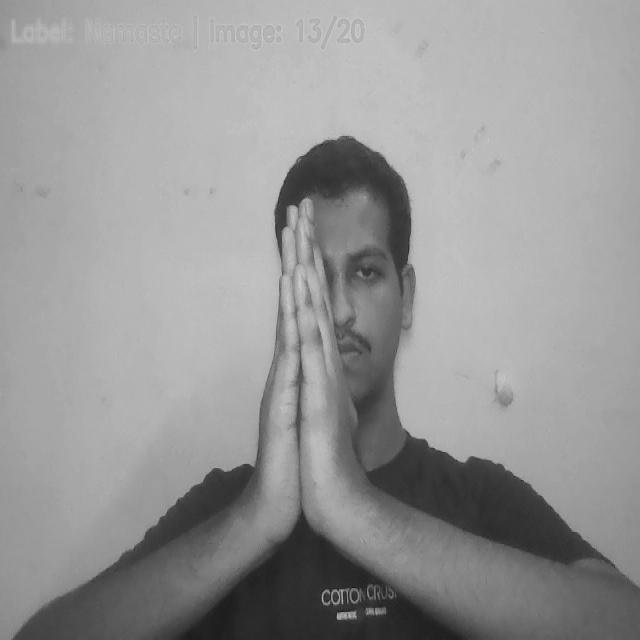Namaste: (260, 198, 355, 562)
